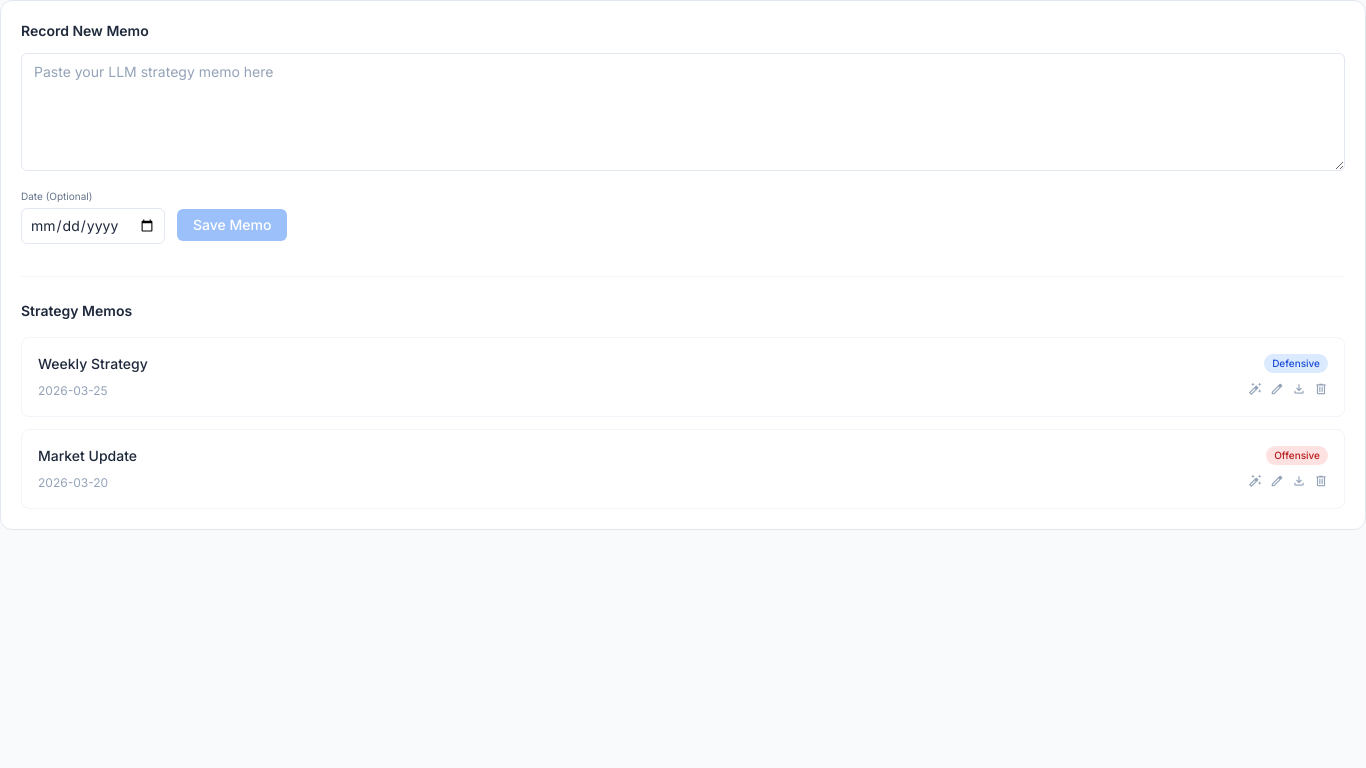
MemoManager › allows expanding a memo to see content
Note: Click to expand
Click the text "Weekly Strategy" at (93, 364), box x1=38 y1=355 x2=148 y2=372
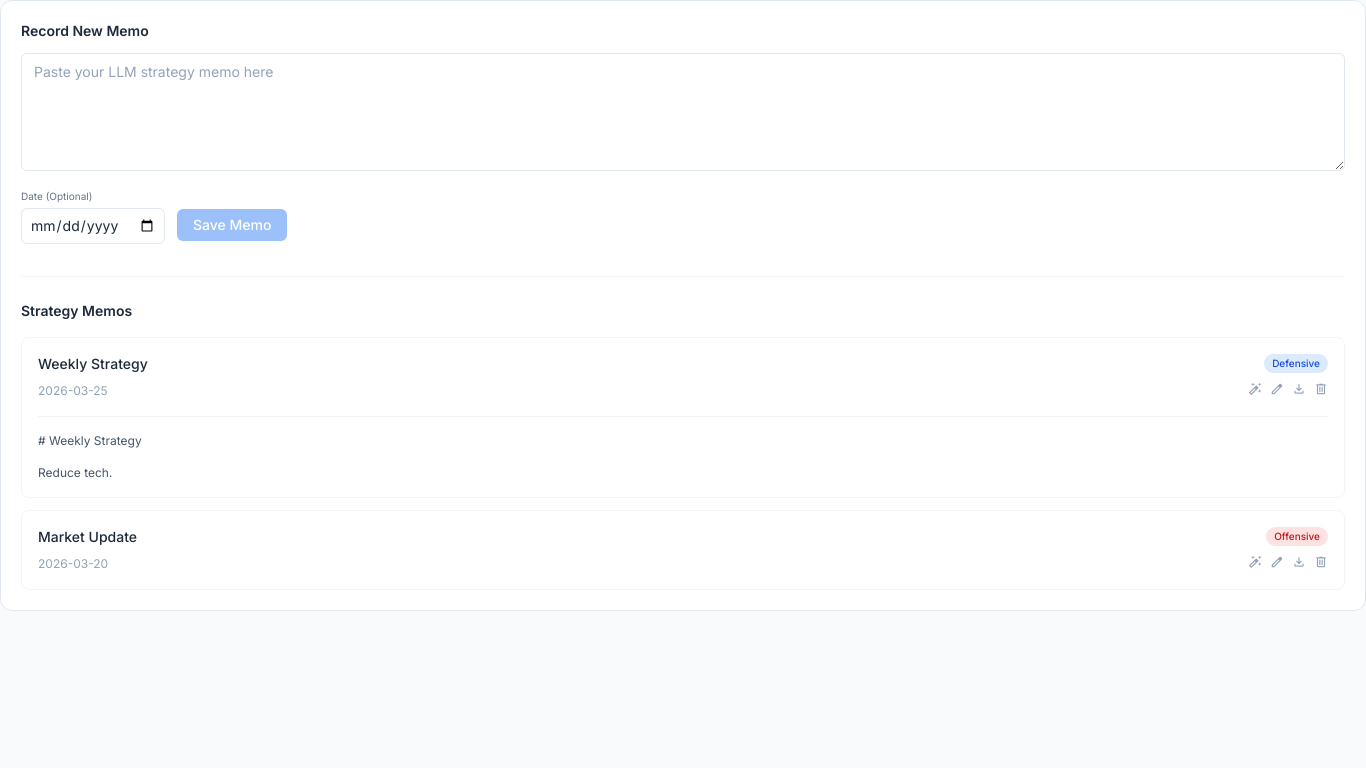
Expected: the element with test id "memo-content-1" is shown, x1=38 y1=416 x2=1328 y2=481
Expected: the text "# Weekly Strategy Reduce tech." is shown, x1=38 y1=433 x2=142 y2=480
